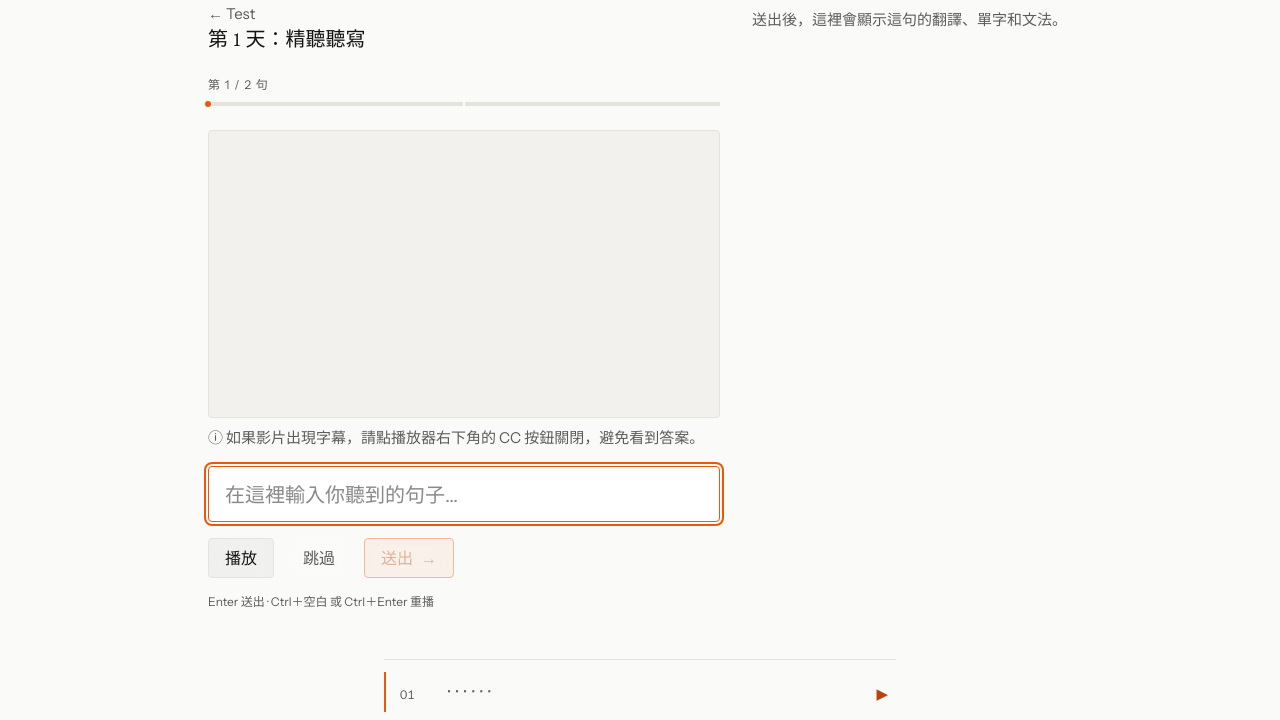
DictationSession › explains a skipped sentence too
The image size is (1280, 720).
Click the button "跳過" at [319, 558], box [286,538,352,578]
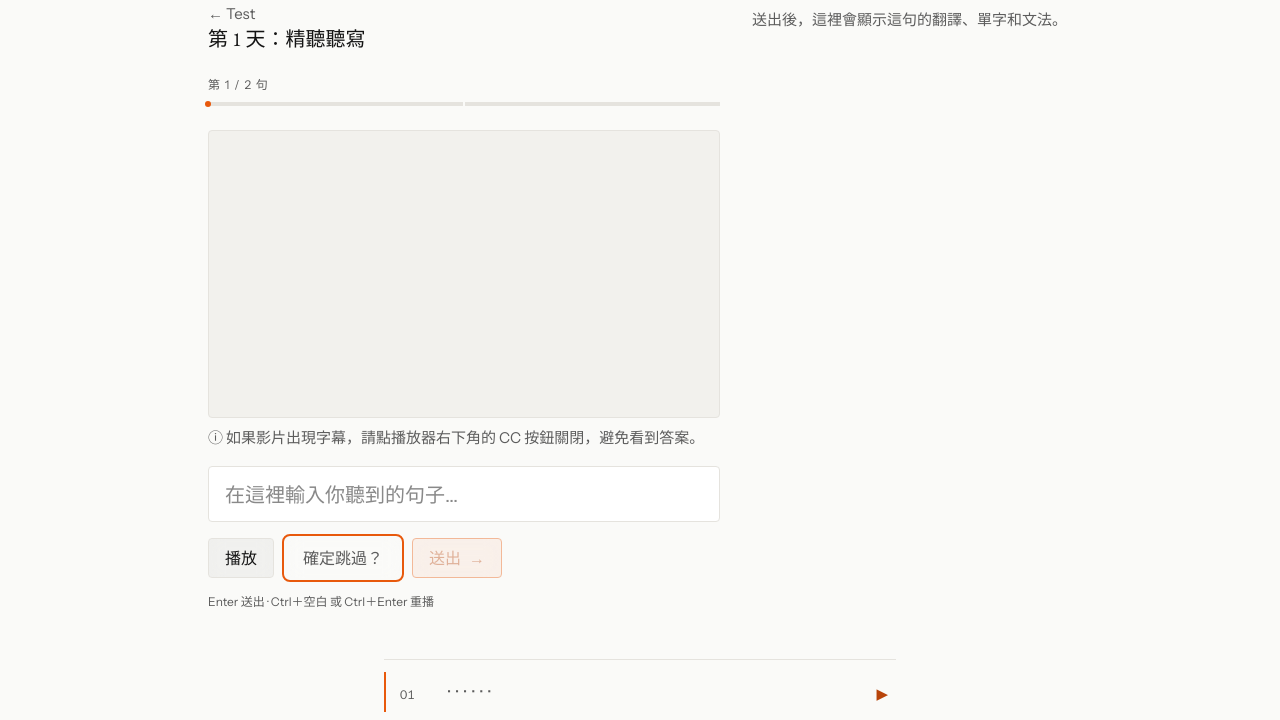
Click the button "確定跳過？" at [343, 558], box [286,538,400,578]
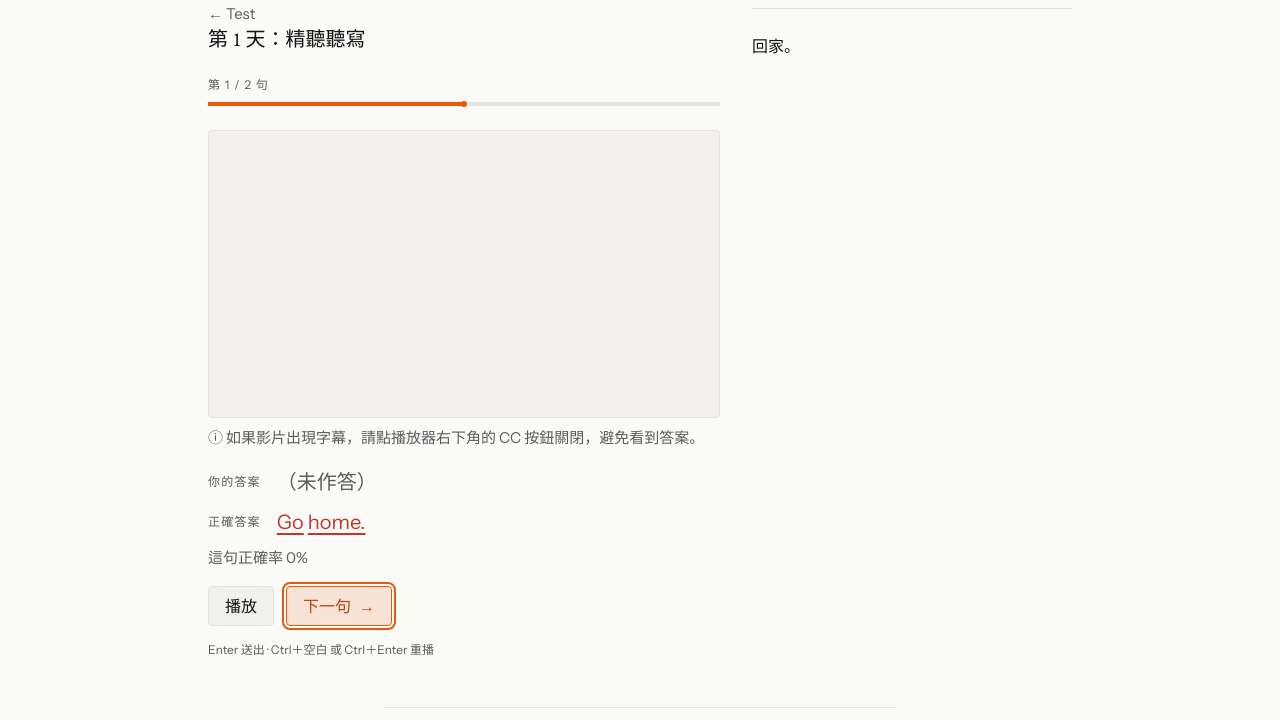
Now the text "回家。" is shown, box [752,36,800,56]
